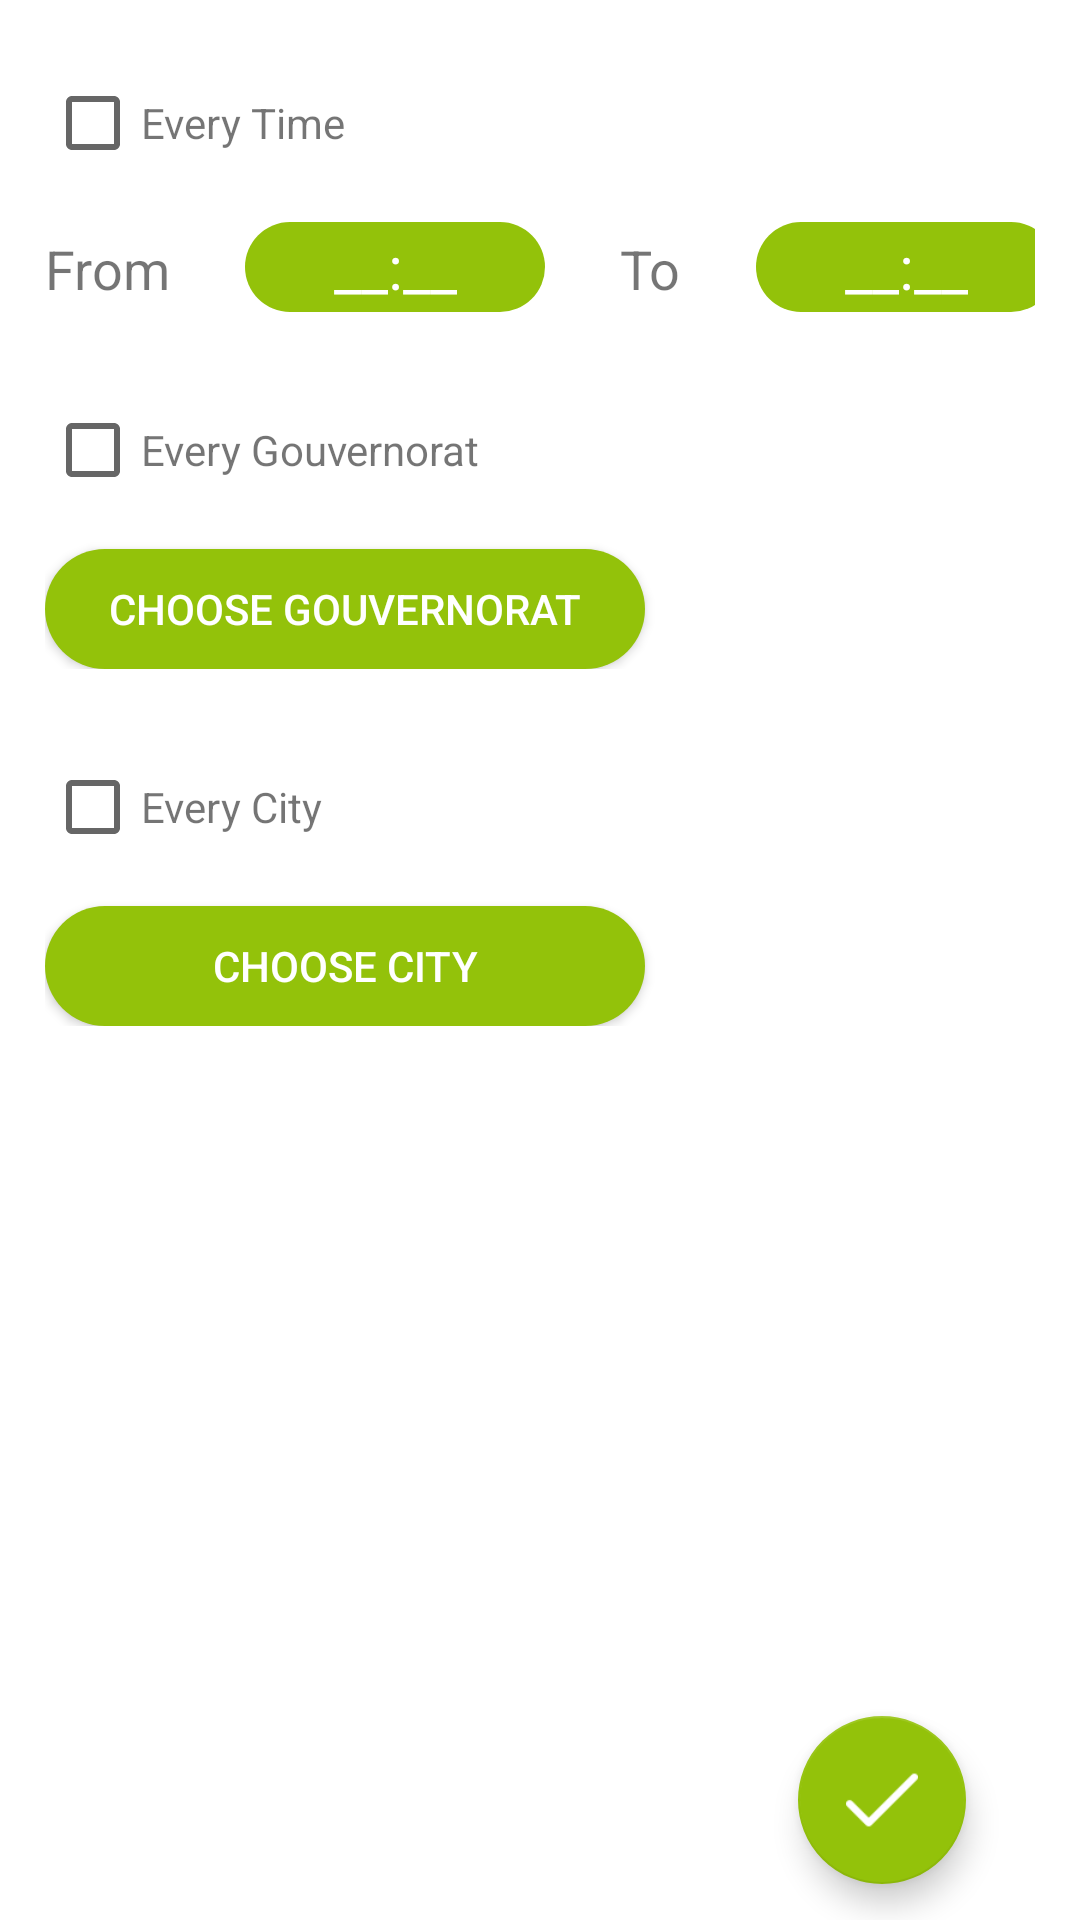

Where to tap for icons on this 1080×1920 app screen, as [x,y]:
tick: [882,1800]
